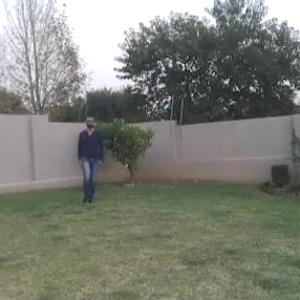follow: (79, 115, 105, 203)
